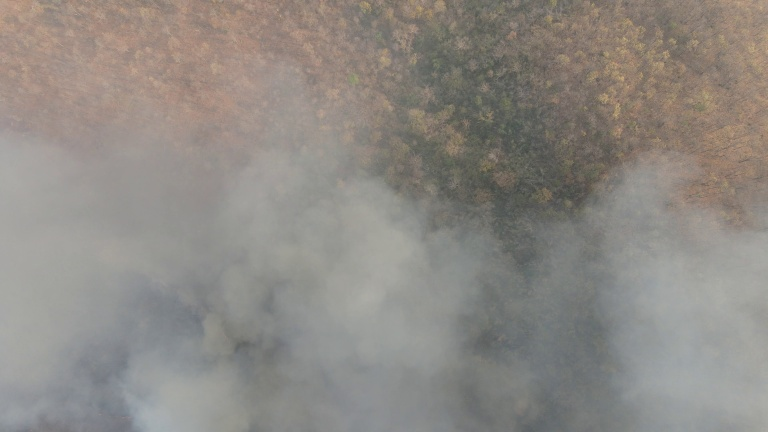smoke: (1, 136, 453, 432), (609, 163, 768, 432)
